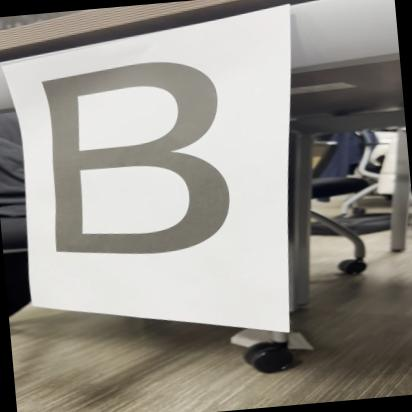seat: (24, 48, 255, 280)
